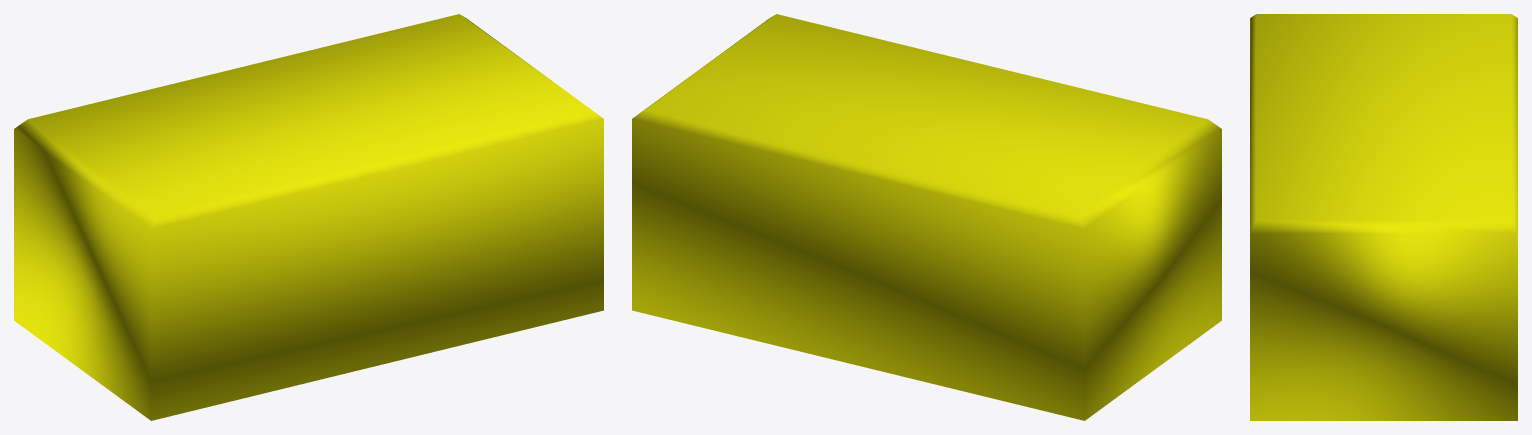
Rendered from baldosa.fbx.
The picture shows the model from 3 angles, left to right: view 1: azimuth 30°, elevation 25°; view 2: azimuth 150°, elevation 25°; view 3: azimuth 270°, elevation 25°; orthographic projection. The views are drawn at different scales.
Parts seen in each view (by area): view 1: Cube.002; view 2: Cube.002; view 3: Cube.002.
Boxes of the visible parts, x1,y1,x2,y2 form: Cube.002: [14, 14, 603, 420]; Cube.002: [632, 14, 1221, 420]; Cube.002: [1250, 14, 1517, 420].
Bounding box in the file's own units: 471 × 200 × 247.
